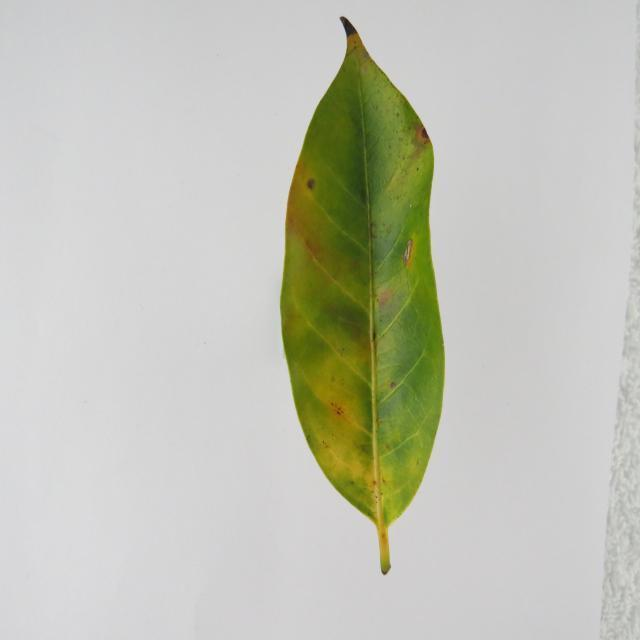DeficienciaNutricional-Fosforo: (280, 17, 445, 573)
